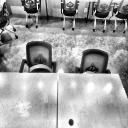chair_fail: (20, 41, 56, 72), (76, 50, 111, 74)
